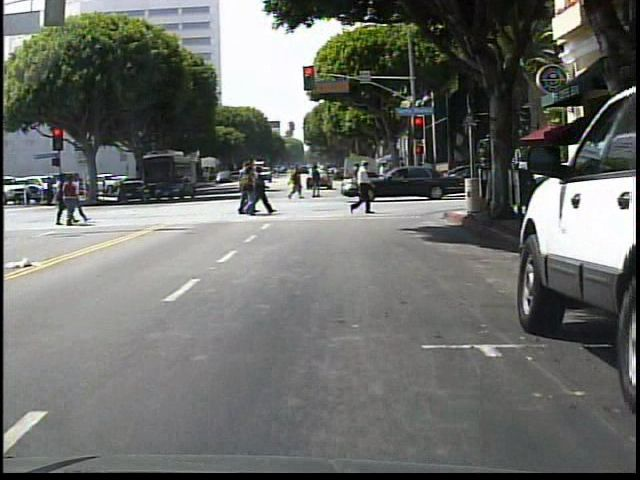person: (348, 157, 382, 221)
